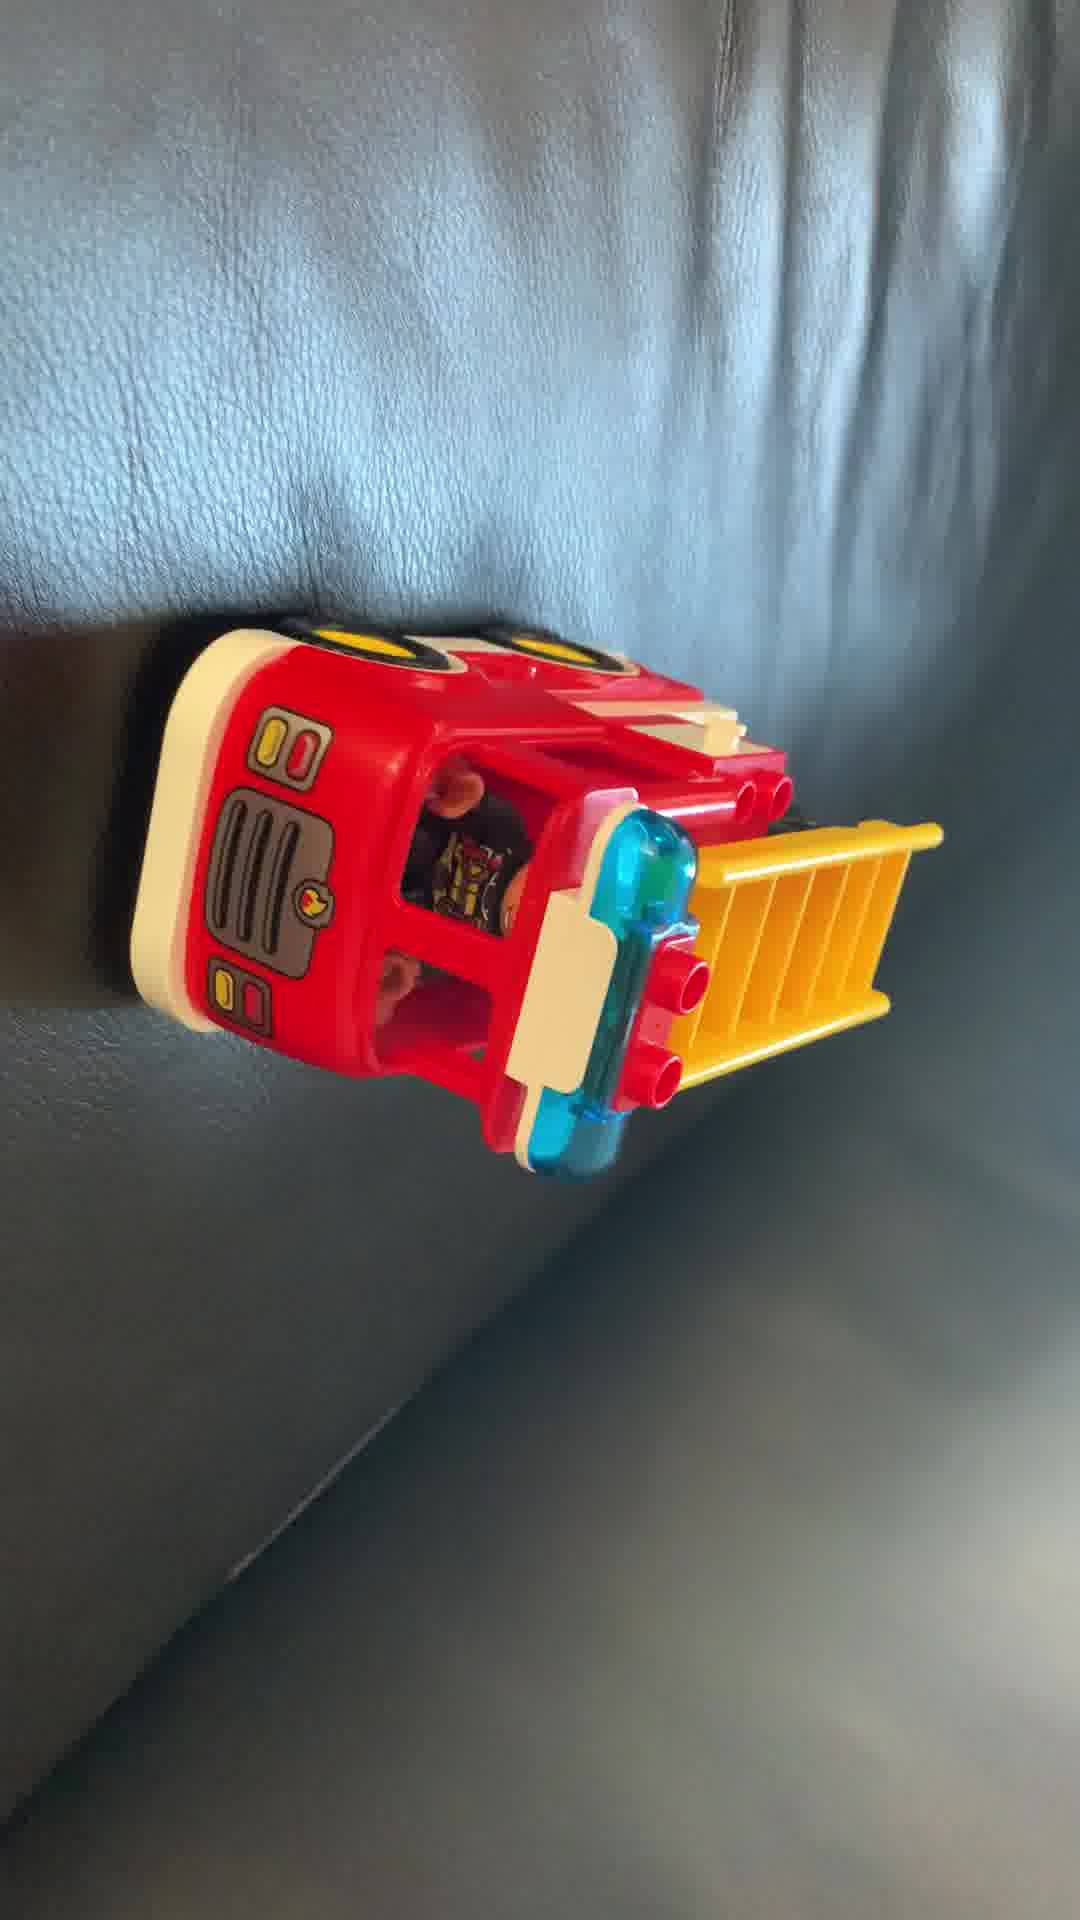lego fire truck: (124, 615, 956, 1189)
